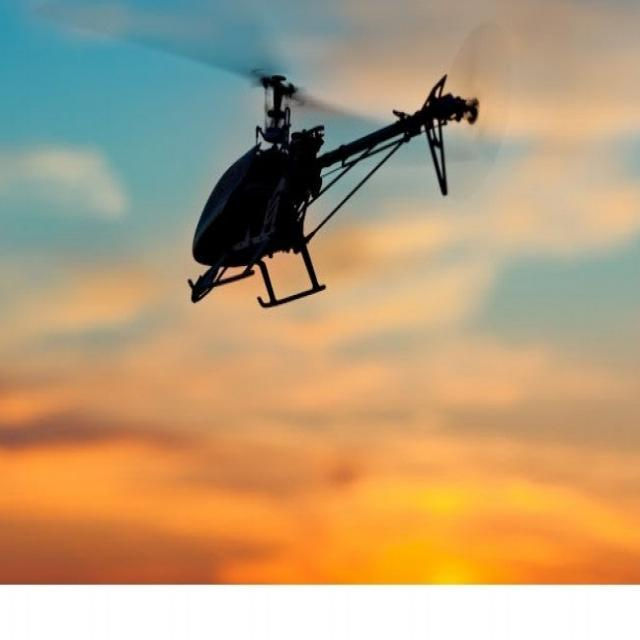helicopter: (73, 1, 486, 310)
